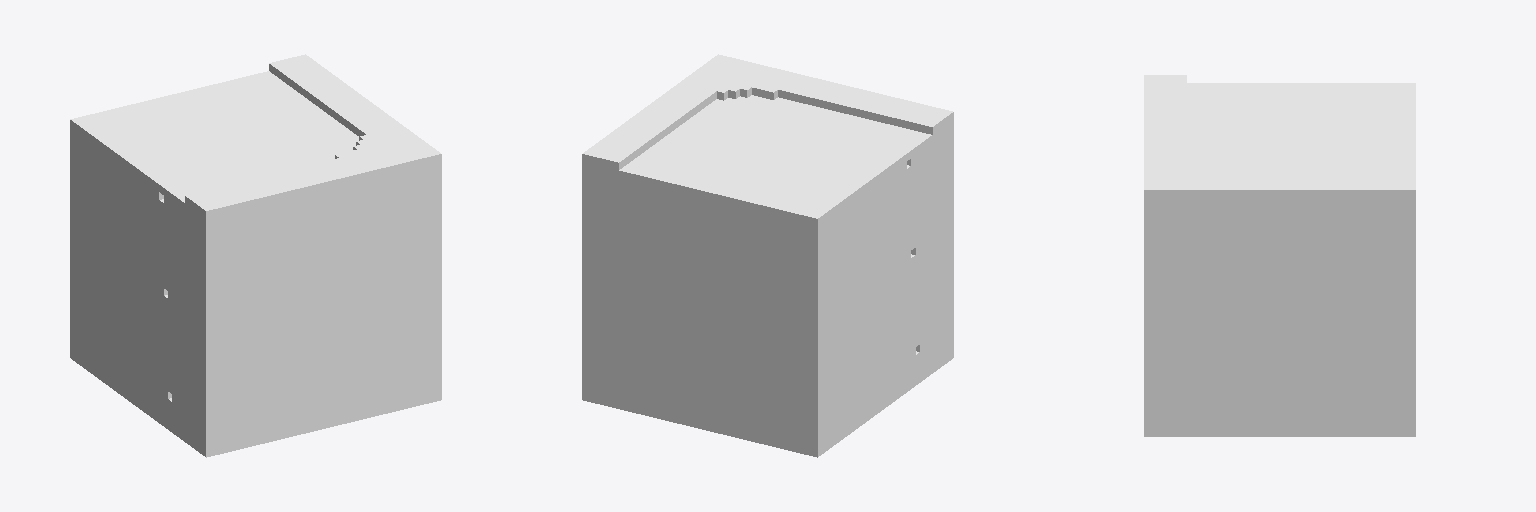
File: Road_Corner.obj
3 renders of one model, left to right at view 1: azimuth 30°, elevation 25°; view 2: azimuth 150°, elevation 25°; view 3: azimuth 270°, elevation 25°, orthographic.
Parts seen in each view (by area): view 1: object 1; view 2: object 1; view 3: object 1.
Boxes of the visible parts, <box> form: object 1: <box>70,54,441,457</box>; object 1: <box>582,54,953,457</box>; object 1: <box>1144,75,1415,436</box>.
Bounding box in the file's own units: 3.2 × 3.2 × 3.2.